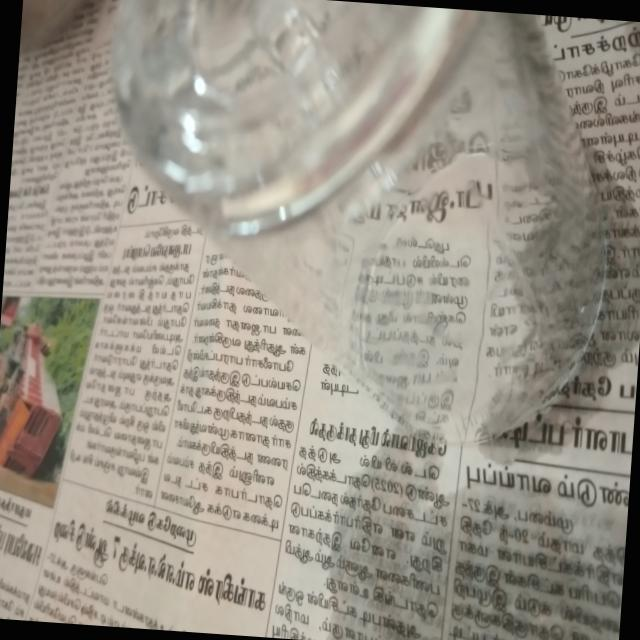glass-VX4N: (75, 0, 611, 440)
